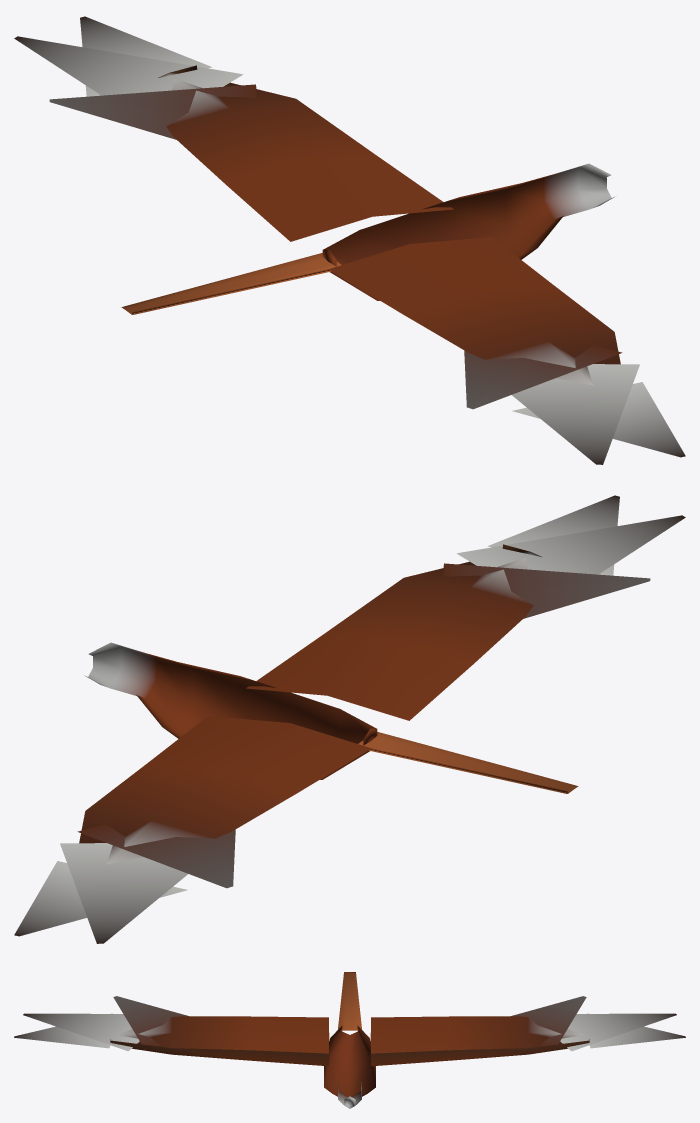
The model's file is SM_Bird_red_kite_glide_LOD2.glb.
3 views of the same model, one above another, from view 1: azimuth 30°, elevation 25°; view 2: azimuth 150°, elevation 25°; view 3: azimuth 270°, elevation 25° (orthographic). The views are drawn at different scales.
Parts seen in each view (by area): view 1: SM_Bird_red_kite_glide_LOD2; view 2: SM_Bird_red_kite_glide_LOD2; view 3: SM_Bird_red_kite_glide_LOD2.
Part boxes in pixels (x1,y1,x2,y2): SM_Bird_red_kite_glide_LOD2: (14, 16, 685, 464); SM_Bird_red_kite_glide_LOD2: (14, 495, 685, 943); SM_Bird_red_kite_glide_LOD2: (14, 972, 685, 1108).
Size of the model in its own units: 0.686 by 0.1367 by 1.47.
